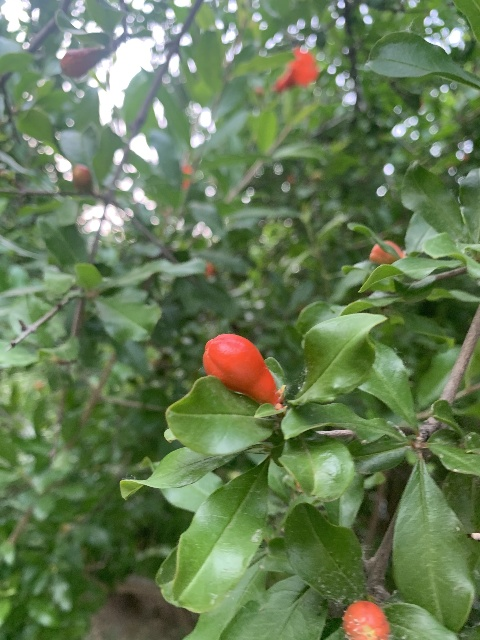bud: (203, 333, 281, 405), (342, 600, 390, 640), (59, 48, 100, 79), (369, 240, 403, 264), (72, 163, 92, 192)
flower: (273, 46, 319, 91)
